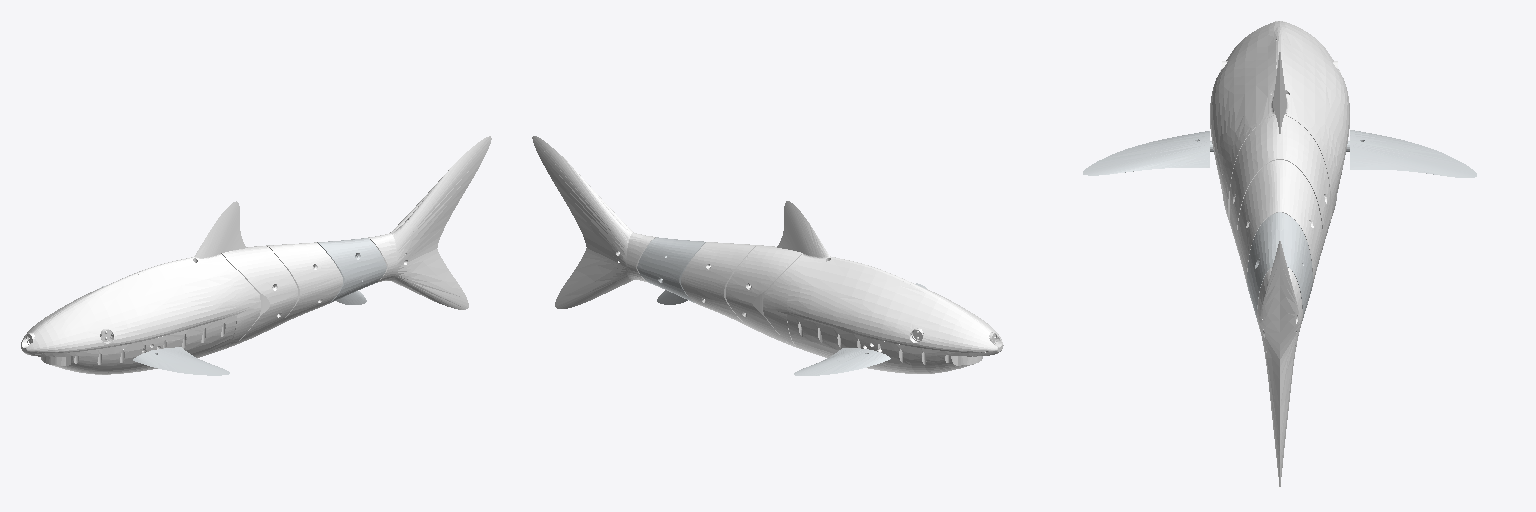
URDF robot description (shark_asm03):
<?xml version="1.0" encoding="utf-8"?>
<!-- This URDF was automatically created by SolidWorks to URDF Exporter! Originally created by [author] ([email redacted]) 
     Commit Version: 1.6.0-4-g7f85cfe  Build Version: 1.6.7995.38578
     For more information, please see http://wiki.ros.org/sw_urdf_exporter -->
<robot
  name="shark_asm03"
  xmlns:gazebo="http://playerstage.sourceforge.net/gazebo/xmlschema/#gz">
  
  <link
    name="base_link">
    <inertial>
      <origin
        xyz="0.038191 -0.0011682 0.019734"
        rpy="0 0 0" />
      <mass
        value="1.753" />
      <inertia
        ixx="0.0011992"
        ixy="-5.9532E-07"
        ixz="-4.094E-05"
        iyy="0.0049871"
        iyz="-7.025E-07"
        izz="0.0055025" />
    </inertial>
    <visual>
      <origin
        xyz="0 0 0"
        rpy="0 0 0" />
      <geometry>
        <mesh
          filename="package://shark_asm03/meshes/base_link.STL" />
      </geometry>
      <material
        name="">
        <color
          rgba="1 1 1 1" />
      </material>
    </visual>
    <collision>
      <origin
        xyz="0 0 0"
        rpy="0 0 0" />
      <geometry>
        <mesh
          filename="package://shark_asm03/meshes/base_link.STL" />
      </geometry>
    </collision>
  </link>

  <link
    name="body_fin">
    <inertial>
      <origin
        xyz="0.00914833180910446 -0.00106620065635634 2.43483887424727E-05"
        rpy="0 0 0" />
      <mass
        value="0.0777166528344648" />
      <inertia
        ixx="3.1049811920015E-05"
        ixy="-3.79774234954185E-10"
        ixz="-3.71777530984048E-08"
        iyy="1.59640204823738E-05"
        iyz="1.84244309068481E-07"
        izz="4.63071029422297E-05" />
    </inertial>
    <visual>
      <origin
        xyz="0 0 0"
        rpy="0 0 0" />
      <geometry>
        <mesh
          filename="package://shark_asm03/meshes/body_fin.STL" />
      </geometry>
      <material
        name="">
        <color
          rgba="0.898039215686275 0.917647058823529 0.929411764705882 1" />
      </material>
    </visual>
    <collision>
      <origin
        xyz="0 0 0"
        rpy="0 0 0" />
      <geometry>
        <mesh
          filename="package://shark_asm03/meshes/body_fin.STL" />
      </geometry>
    </collision>
  </link>
  <joint
    name="body_fin_joint"
    type="revolute">
    <origin
      xyz="0 0 0"
      rpy="0 0 0" />
    <parent
      link="base_link" />
    <child
      link="body_fin" />
    <axis
      xyz="0 1 0" />
    <limit
      lower="-0.52"
      upper="0.52"
      effort="0"
      velocity="0" />
  </joint>
  <link
    name="link1">
    <inertial>
      <origin
        xyz="0.0273740098565554 1.00730841318137E-06 0.00233674443466103"
        rpy="0 0 0" />
      <mass
        value="0.276636032216536" />
      <inertia
        ixx="0.000221100847637612"
        ixy="2.2348802662522E-08"
        ixz="1.48015173973935E-06"
        iyy="0.000306819552826337"
        iyz="-1.51964922899048E-08"
        izz="0.000127523807633018" />
    </inertial>
    <visual>
      <origin
        xyz="0 0 0"
        rpy="0 0 0" />
      <geometry>
        <mesh
          filename="package://shark_asm03/meshes/link1.STL" />
      </geometry>
      <material
        name="">
        <color
          rgba="1 1 1 1" />
      </material>
    </visual>
    <collision>
      <origin
        xyz="0 0 0"
        rpy="0 0 0" />
      <geometry>
        <mesh
          filename="package://shark_asm03/meshes/link1.STL" />
      </geometry>
    </collision>
  </link>
  <joint
    name="joint1"
    type="revolute">
    <origin
      xyz="0.16952 -0.001 0.022"
      rpy="0 0 0" />
    <parent
      link="base_link" />
    <child
      link="link1" />
    <axis
      xyz="0 0 1" />
    <limit
      lower="-0.54777"
      upper="0.54777"
      effort="5.0"
      velocity="2.0" />
  </joint>
  <link
    name="link2">
    <inertial>
      <origin
        xyz="0.0314265398767537 7.62073086331302E-06 0.00321188485864419"
        rpy="0 0 0" />
      <mass
        value="0.23079291425153" />
      <inertia
        ixx="0.00014162458840055"
        ixy="1.43555615633064E-07"
        ixz="6.00764632389094E-06"
        iyy="0.000192380669161936"
        iyz="7.81445755193396E-09"
        izz="0.000124286520292589" />
    </inertial>
    <visual>
      <origin
        xyz="0 0 0"
        rpy="0 0 0" />
      <geometry>
        <mesh
          filename="package://shark_asm03/meshes/link2.STL" />
      </geometry>
      <material
        name="">
        <color
          rgba="1 1 1 1" />
      </material>
    </visual>
    <collision>
      <origin
        xyz="0 0 0"
        rpy="0 0 0" />
      <geometry>
        <mesh
          filename="package://shark_asm03/meshes/link2.STL" />
      </geometry>
    </collision>
  </link>
  <joint
    name="joint2"
    type="revolute">
    <origin
      xyz="0.06502 0 0"
      rpy="0 0 0" />
    <parent
      link="link1" />
    <child
      link="link2" />
    <axis
      xyz="0 0 -1" />
    <limit
      lower="-0.5242"
      upper="0.5242"
      effort="5.0"
      velocity="2.0" />
  </joint>
  <link
    name="link3">
    <inertial>
      <origin
        xyz="0.0326080633640175 0.000105371441976573 0.00539746824234997"
        rpy="0 0 0" />
      <mass
        value="0.194723948866163" />
      <inertia
        ixx="7.98162926930531E-05"
        ixy="-2.49207714784249E-07"
        ixz="4.9950223786246E-06"
        iyy="0.00012964160787792"
        iyz="7.02465415687571E-09"
        izz="9.38054135694122E-05" />
    </inertial>
    <visual>
      <origin
        xyz="0 0 0"
        rpy="0 0 0" />
      <geometry>
        <mesh
          filename="package://shark_asm03/meshes/link3.STL" />
      </geometry>
      <material
        name="">
        <color
          rgba="0.898039215686275 0.917647058823529 0.929411764705882 1" />
      </material>
    </visual>
    <collision>
      <origin
        xyz="0 0 0"
        rpy="0 0 0" />
      <geometry>
        <mesh
          filename="package://shark_asm03/meshes/link3.STL" />
      </geometry>
    </collision>
  </link>
  <joint
    name="joint3"
    type="revolute">
    <origin
      xyz="0.06402 0 0"
      rpy="0 0 0" />
    <parent
      link="link2" />
    <child
      link="link3" />
    <axis
      xyz="0 0 1" />
    <limit
      lower="-0.424"
      upper="0.424"
      effort="4.0"
      velocity="1.5" />
  </joint>
  <link
    name="link4">
    <inertial>
      <origin
        xyz="0.0437179055651961 -6.72418090937084E-06 0.0104856415382952"
        rpy="0 0 0" />
      <mass
        value="0.111699348341862" />
      <inertia
        ixx="0.000186665766811727"
        ixy="1.66443330076751E-10"
        ixz="-3.18917008238277E-05"
        iyy="0.000232685091219534"
        iyz="-2.78353657152308E-08"
        izz="5.59758373965963E-05" />
    </inertial>
    <visual>
      <origin
        xyz="0 0 0"
        rpy="0 0 0" />
      <geometry>
        <mesh
          filename="package://shark_asm03/meshes/link4.STL" />
      </geometry>
      <material
        name="">
        <color
          rgba="1 1 1 1" />
      </material>
    </visual>
    <collision>
      <origin
        xyz="0 0 0"
        rpy="0 0 0" />
      <geometry>
        <mesh
          filename="package://shark_asm03/meshes/link4.STL" />
      </geometry>
    </collision>
  </link>
  <joint
    name="joint4"
    type="revolute">
    <origin
      xyz="0.0668 0 0"
      rpy="0 0 0" />
    <parent
      link="link3" />
    <child
      link="link4" />
    <axis
      xyz="0 0 -1" />
    <limit
      lower="-0.265"
      upper="0.265"
      effort="2.0"
      velocity="1.0" />
  </joint>


  <gazebo reference="base_link">
    <material>Gazebo/White</material> <!-- 为底座设置Gazebo默认材质 -->
  </gazebo>
  <!-- 为其他link添加Gazebo材质（可选，避免模型透明） -->
  <gazebo reference="body_fin">
    <material>Gazebo/Blue</material>
  </gazebo>
  <gazebo reference="link1">
    <material>Gazebo/White</material>
  </gazebo>
  <gazebo reference="link2">
    <material>Gazebo/White</material>
  </gazebo>
  <gazebo reference="link3">
    <material>Gazebo/Blue</material>
  </gazebo>
  <gazebo reference="link4">
    <material>Gazebo/White</material>
  </gazebo>

  <!-- joint1 位置控制器配置 -->
  <gazebo reference="joint1">
  <gazebo:controller name="joint1_position_controller" type="joint_position_controller">
    <gazebo:param name="joint_name">joint1</gazebo:param>
    <gazebo:param name="pid_gain.p">10.0</gazebo:param>
    <gazebo:param name="pid_gain.i">0.1</gazebo:param>
    <gazebo:param name="pid_gain.d">0.5</gazebo:param>
    <gazebo:param name="pid_gain.i_max">1.0</gazebo:param>
    <gazebo:param name="pid_gain.i_min">-1.0</gazebo:param>
  </gazebo:controller>
  </gazebo>


  <!-- 复制上述代码，分别修改 joint_name 为 joint2、joint3、joint4，PID参数可相同 -->
  <!-- joint2 位置控制器配置 -->
  <gazebo reference="joint2">
  <gazebo:controller name="joint2_position_controller" type="joint_position_controller">
    <gazebo:param name="joint_name">joint2</gazebo:param>
    <gazebo:param name="pid_gain.p">10.0</gazebo:param>
    <gazebo:param name="pid_gain.i">0.1</gazebo:param>
    <gazebo:param name="pid_gain.d">0.5</gazebo:param>
    <gazebo:param name="pid_gain.i_max">1.0</gazebo:param>
    <gazebo:param name="pid_gain.i_min">-1.0</gazebo:param>
  </gazebo:controller>
  </gazebo>


  <!-- joint3 位置控制器配置 -->
  <gazebo reference="joint3">
  <gazebo:controller name="joint3_position_controller" type="joint_position_controller">
    <gazebo:param name="joint_name">joint3</gazebo:param>
    <gazebo:param name="pid_gain.p">10.0</gazebo:param>
    <gazebo:param name="pid_gain.i">0.1</gazebo:param>
    <gazebo:param name="pid_gain.d">0.5</gazebo:param>
    <gazebo:param name="pid_gain.i_max">1.0</gazebo:param>
    <gazebo:param name="pid_gain.i_min">-1.0</gazebo:param>
  </gazebo:controller>
  </gazebo>


    <!-- joint4 位置控制器配置 -->
  <gazebo reference="joint4">
  <gazebo:controller name="joint4_position_controller" type="joint_position_controller">
    <gazebo:param name="joint_name">joint4</gazebo:param>
    <gazebo:param name="pid_gain.p">10.0</gazebo:param>
    <gazebo:param name="pid_gain.i">0.1</gazebo:param>
    <gazebo:param name="pid_gain.d">0.5</gazebo:param>
    <gazebo:param name="pid_gain.i_max">1.0</gazebo:param>
    <gazebo:param name="pid_gain.i_min">-1.0</gazebo:param>
  </gazebo:controller>
  </gazebo>


</robot>

--- Facts derived from the render (not from the file) ---
3 views of the same robot in one strip: view 1: azimuth 30°, elevation 25°; view 2: azimuth 150°, elevation 25°; view 3: azimuth 270°, elevation 25° (orthographic).
Model shark_asm03 with 6 links and 5 joints (5 revolute), rooted at base_link, posed every joint at zero.
Visible links, largest first — view 1: base_link, link4, link1, link2, link3, body_fin; view 2: base_link, link4, link1, link2, link3, body_fin; view 3: base_link, body_fin, link4, link1, link2, link3.
Link boxes in pixels (<box>): base_link: <box>21,201,260,374</box>; link4: <box>368,136,491,309</box>; link1: <box>221,246,297,346</box>; link2: <box>266,242,342,327</box>; link3: <box>317,238,386,304</box>; body_fin: <box>99,285,229,375</box>; base_link: <box>763,201,1003,373</box>; link4: <box>532,136,655,308</box>; link1: <box>726,245,801,346</box>; link2: <box>681,242,756,326</box>; link3: <box>637,237,705,304</box>; body_fin: <box>794,283,926,375</box>; base_link: <box>1210,21,1349,222</box>; body_fin: <box>1083,130,1476,177</box>; link4: <box>1257,241,1302,486</box>; link1: <box>1230,115,1329,249</box>; link2: <box>1237,160,1322,286</box>; link3: <box>1247,212,1312,321</box>.
Size in the robot's own frame: 0.6823 by 0.3123 by 0.2334 metres.
Meshes: 6 distinct files referenced, 6 mesh visuals loaded (6 binary STL).
